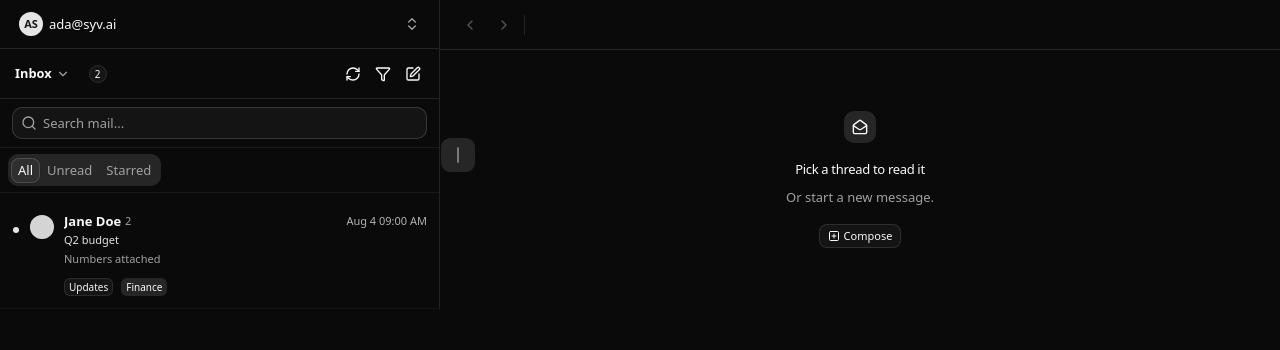
drafts come from Gmail and say so when there are none
This screenshot has width=1280, height=350.
expect the list named "Inbox" is shown: met, box [0,201,439,309]
Click the button with aria-label "Mailbox: Inbox" at [42, 74], box [4,60,81,88]
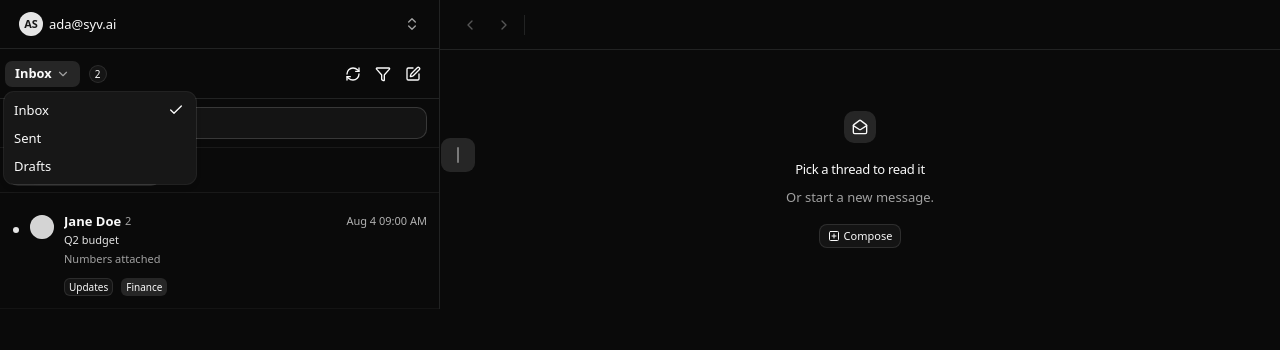
Click the menu item "Drafts" at [33, 166], box [14,157,51,175]
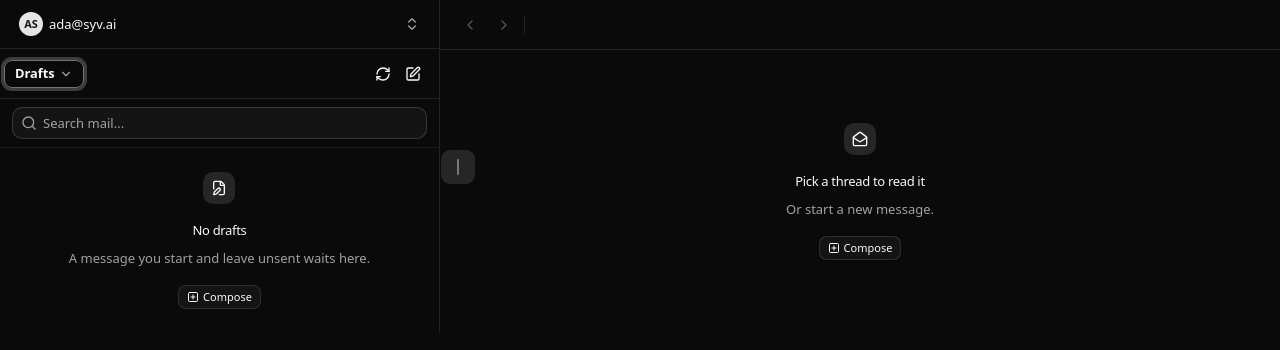
expect the text "No drafts" is shown: met, box [192,220,246,240]
